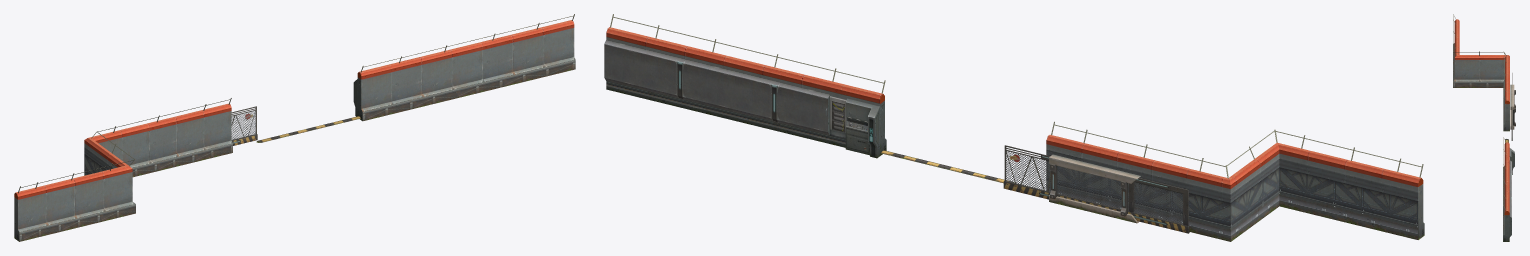
Rendered from Building_Mainexit03_lod1.glb.
3 views of the same model, side by side, from view 1: azimuth 30°, elevation 25°; view 2: azimuth 150°, elevation 25°; view 3: azimuth 270°, elevation 25° (orthographic). The views are drawn at different scales.
Parts seen in each view (by area): view 1: xiutz_mainexit_03_lod1_0; view 2: xiutz_mainexit_03_lod1_0; view 3: xiutz_mainexit_03_lod1_0.
Part boxes in pixels (bbox=[...]): xiutz_mainexit_03_lod1_0: bbox=[14, 14, 575, 241]; xiutz_mainexit_03_lod1_0: bbox=[604, 14, 1424, 241]; xiutz_mainexit_03_lod1_0: bbox=[1453, 14, 1515, 241].
Size of the model in its own units: 74.43 by 6.62 by 10.3.
Materials: 2 (2 with a texture image).
